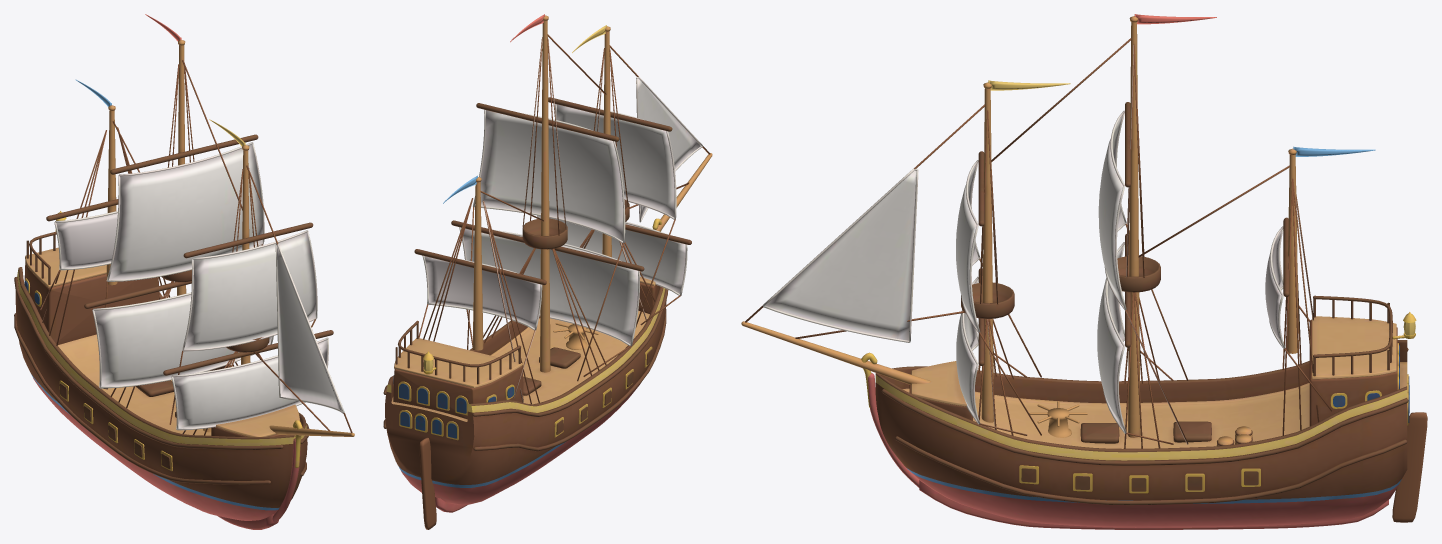
File: gemi.glb
The picture shows the model from 3 angles, left to right: view 1: azimuth 30°, elevation 25°; view 2: azimuth 150°, elevation 25°; view 3: azimuth 270°, elevation 25°; orthographic projection. The views are drawn at different scales.
Visible parts, largest first — view 1: pirate-ship_body; view 2: pirate-ship_body, pirate-ship_rudder, pirate-ship_capstan; view 3: pirate-ship_body, pirate-ship_rudder, pirate-ship_capstan.
Boxes of the visible parts, <box> form: pirate-ship_body: <box>14,40,354,529</box>; pirate-ship_body: <box>383,15,712,512</box>; pirate-ship_rudder: <box>419,437,436,529</box>; pirate-ship_capstan: <box>553,323,598,349</box>; pirate-ship_body: <box>741,16,1416,529</box>; pirate-ship_rudder: <box>1392,412,1427,522</box>; pirate-ship_capstan: <box>1029,401,1087,437</box>.
Size of the model in its own units: 10.76 by 23.3 by 28.13.
7 materials, 1 textured.
